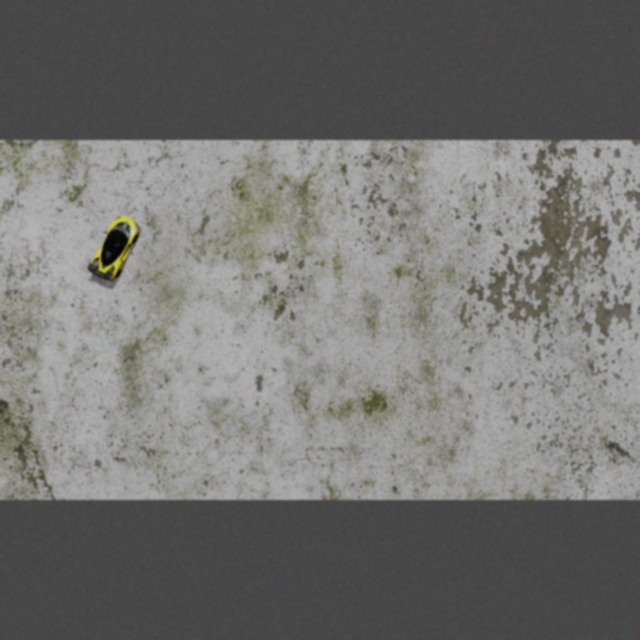car: (83, 209, 145, 284)
